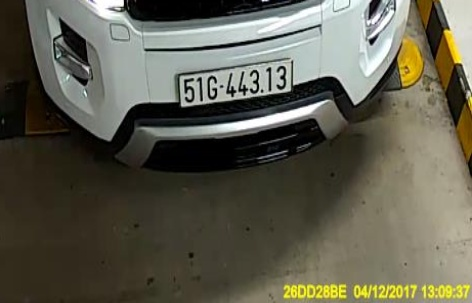plate: (173, 57, 298, 107)
